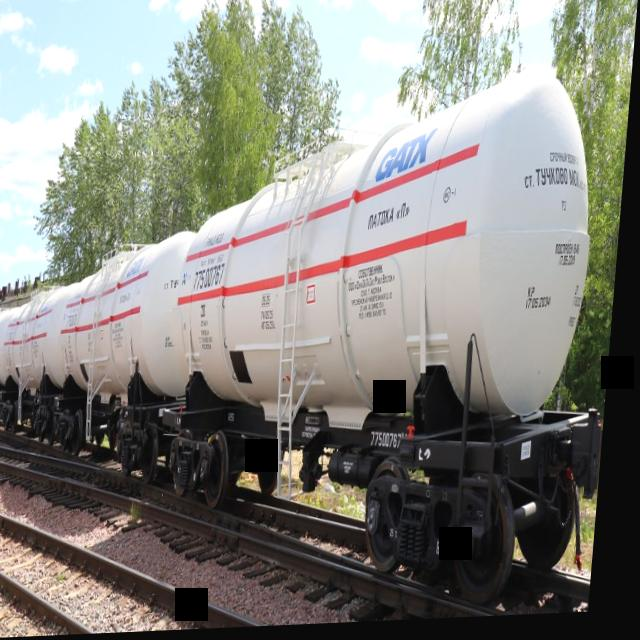tank: (158, 60, 628, 633), (50, 225, 193, 498), (1, 269, 70, 444), (0, 299, 16, 432)
